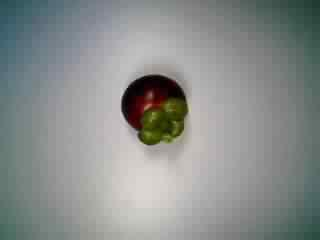mangosteen: (112, 69, 196, 150)
